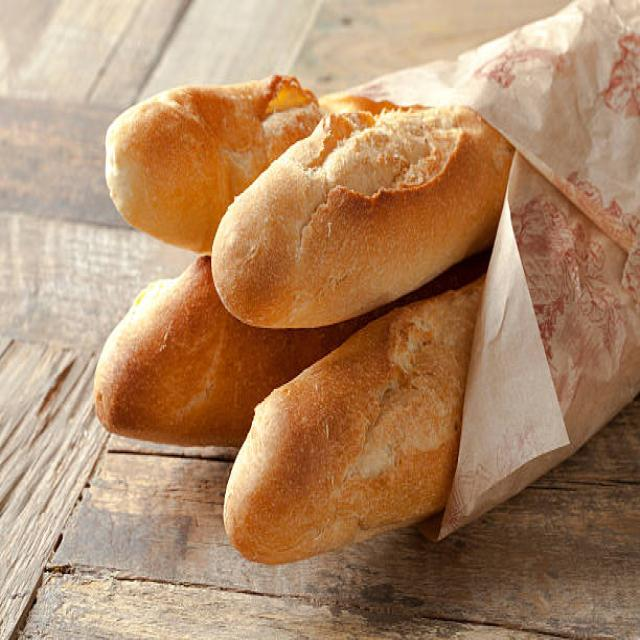Baguette: (224, 278, 483, 562), (212, 107, 513, 328), (95, 256, 385, 445), (106, 75, 321, 253)
